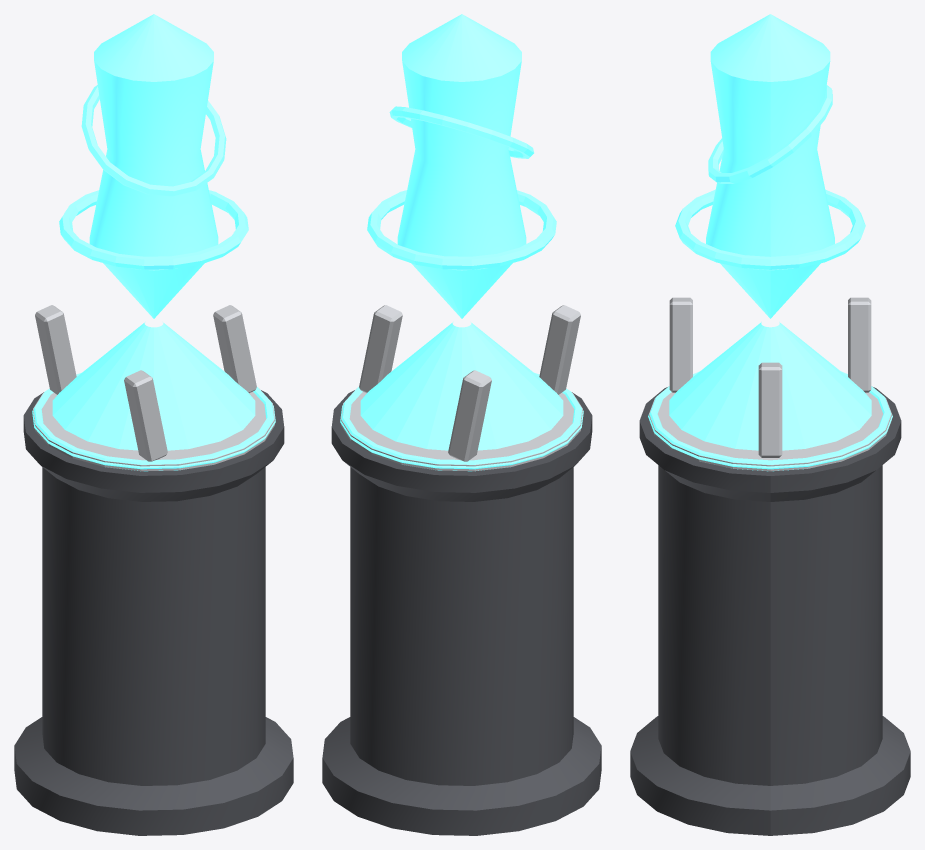
Rendered from cyberpunk-apartment-and-neon-block-holo-projector-plin-d399423a__37811.glb.
3 views of the same model, side by side, from view 1: azimuth 30°, elevation 25°; view 2: azimuth 150°, elevation 25°; view 3: azimuth 270°, elevation 25° (orthographic).
Parts seen in each view (by area): view 1: holo-projector-plinth; view 2: holo-projector-plinth; view 3: holo-projector-plinth.
Part boxes in pixels (left/top/right/bottom): holo-projector-plinth: left=14, top=14, right=293, bottom=835; holo-projector-plinth: left=322, top=14, right=601, bottom=835; holo-projector-plinth: left=630, top=14, right=910, bottom=835.
Bounding box in the file's own units: 0.6 × 1.8 × 0.6.
